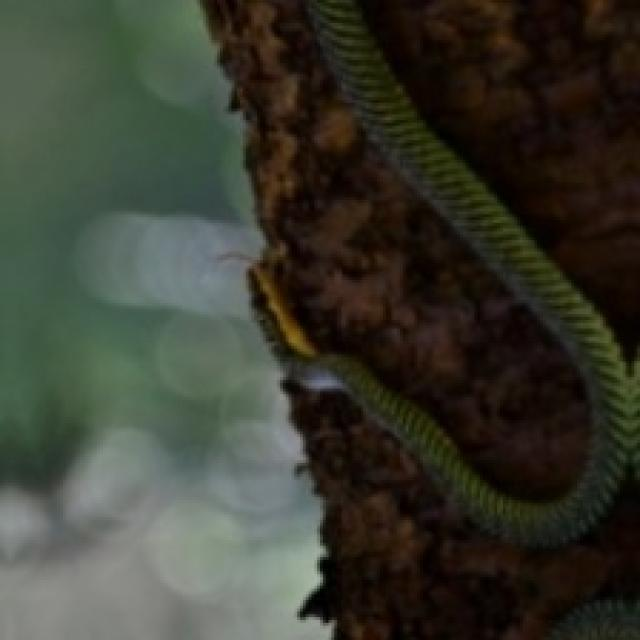paradise tree snake: (229, 0, 637, 543)
